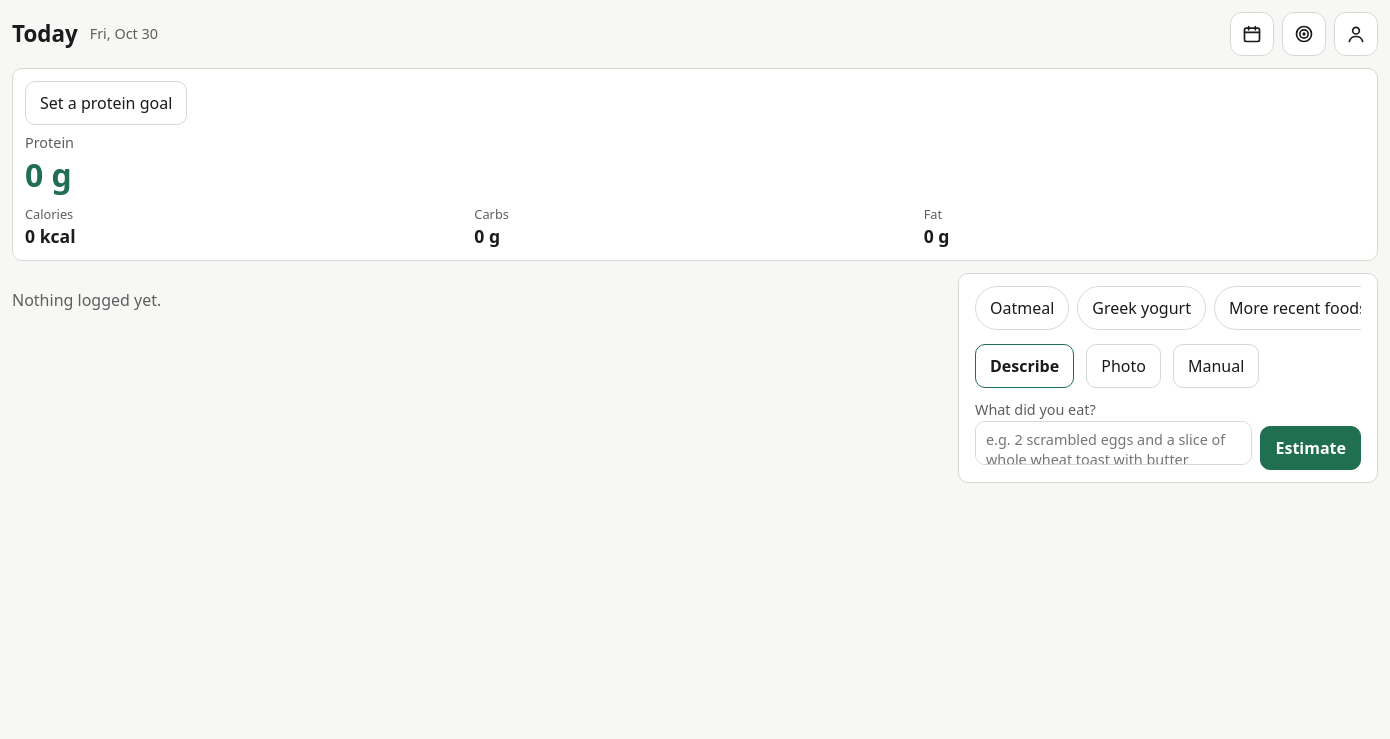
Scenario: QuickPicks › (f) the quick picks are disabled while a review card or re-log form is open
Check: the element "recent foods" is shown, box [975,286,1361,332]
Click the button "Greek yogurt": (1142,308) [1077,286,1206,330]
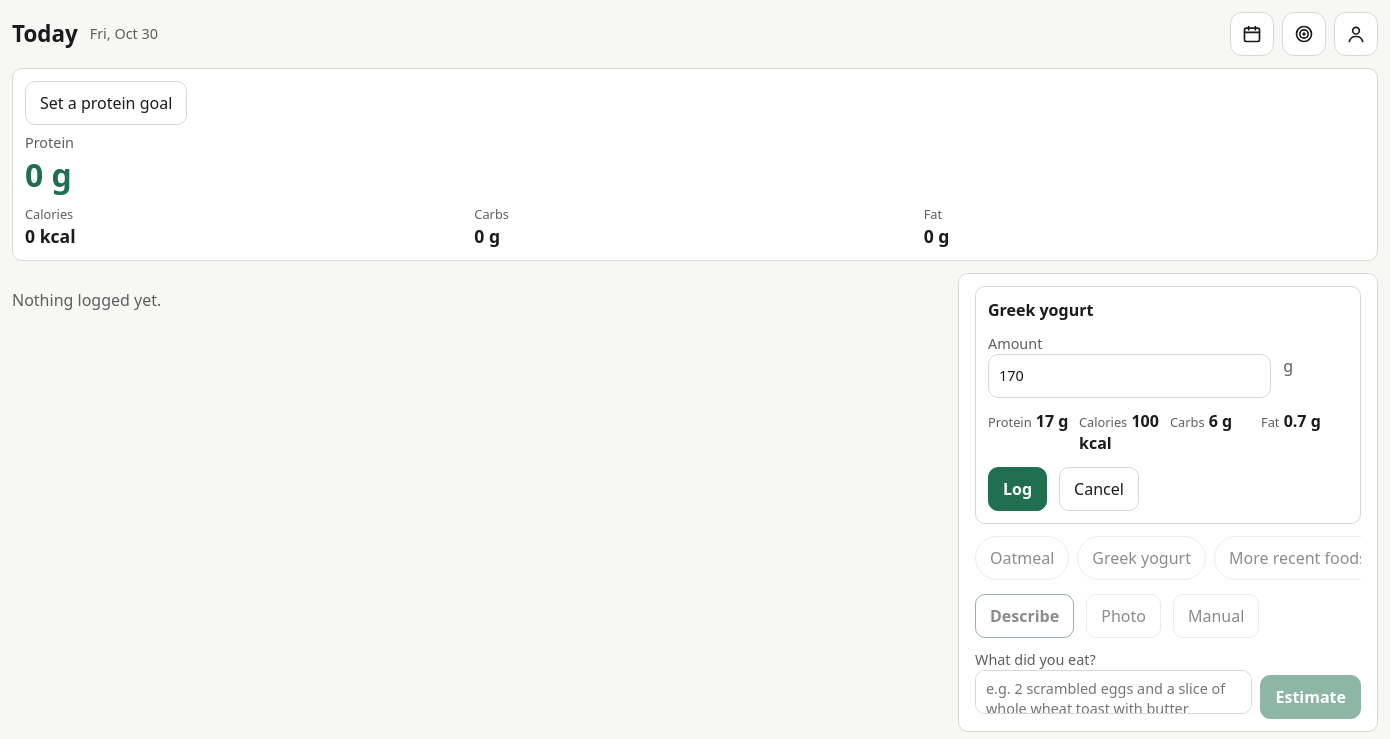
Check: the button "Oatmeal" is disabled, box [975,536,1069,580]
Click the button "Cancel": (1099,489) [1059,467,1139,511]
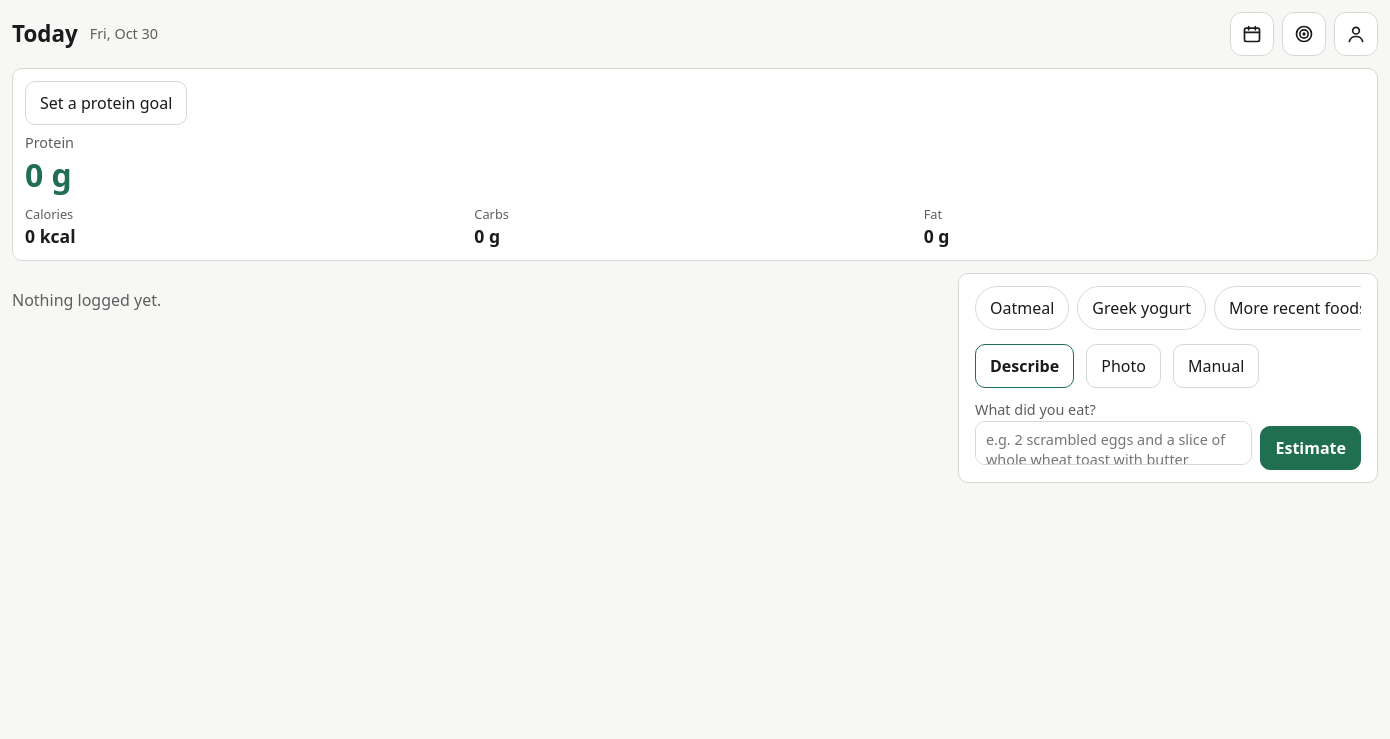
In the text box labelled "What did you eat?": (1114,443) [975,421,1252,465], type "banana"
Then press Enter
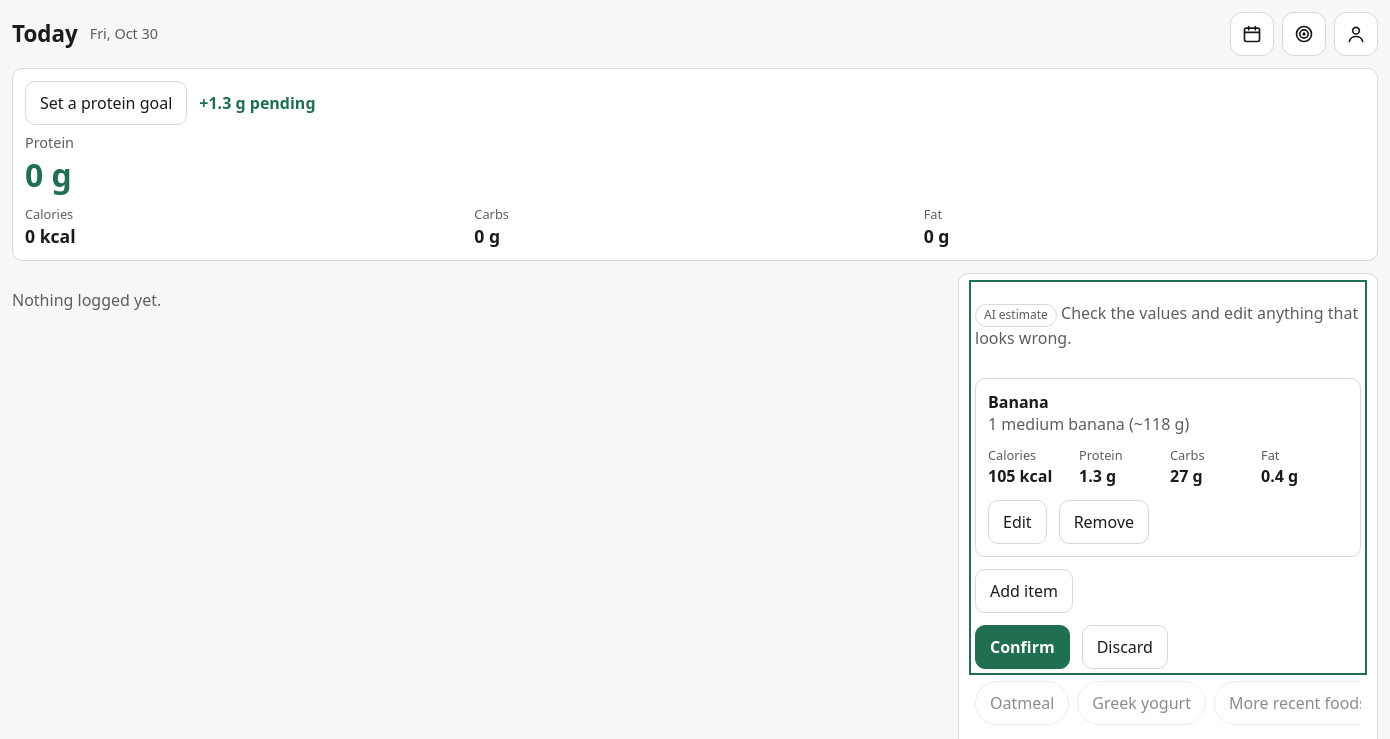
Check: the element named "Review estimate" is shown, box [975,286,1361,669]
Check: the button "Oatmeal" is disabled, box [975,681,1069,725]
